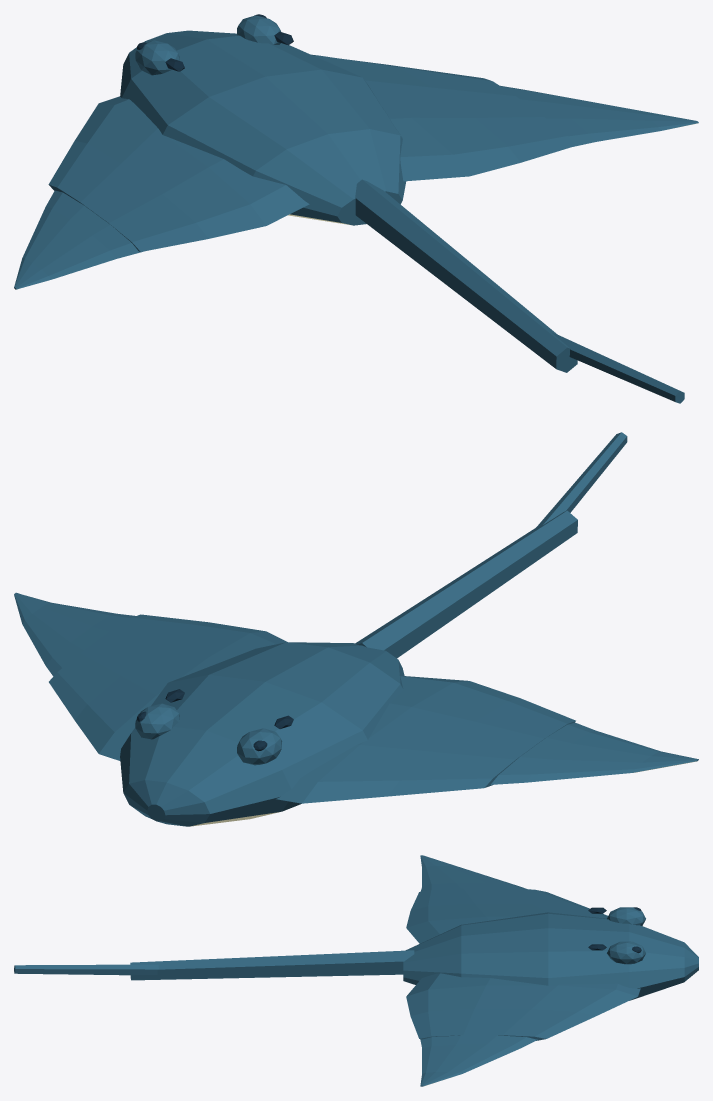
Rendered from wild_ray.glb.
The picture shows the model from 3 angles, top to bottom: view 1: azimuth 30°, elevation 25°; view 2: azimuth 150°, elevation 25°; view 3: azimuth 270°, elevation 25°; orthographic projection. The views are drawn at different scales.
Parts seen in each view (by area): view 1: ray central disc, supple inner disc, supple inner disc.001, long tail, swept outer disc, swept outer disc.001; view 2: ray central disc, supple inner disc, supple inner disc.001, long tail, swept outer disc, swept outer disc.001; view 3: ray central disc, supple inner disc.001, long tail, supple inner disc, swept outer disc.001, swept outer disc.
Part boxes in pixels (x1,y1,x2,y2): ray central disc: (120, 14, 406, 225); supple inner disc: (48, 96, 309, 251); supple inner disc.001: (311, 54, 575, 181); long tail: (355, 179, 684, 403); swept outer disc: (14, 190, 142, 289); swept outer disc.001: (500, 85, 698, 146); ray central disc: (120, 642, 404, 826); supple inner disc: (276, 676, 575, 803); supple inner disc.001: (49, 614, 287, 760); long tail: (355, 432, 627, 658); swept outer disc: (491, 722, 698, 784); swept outer disc.001: (14, 592, 135, 676); ray central disc: (403, 907, 698, 1000); supple inner disc.001: (406, 973, 640, 1040); long tail: (14, 950, 414, 980); supple inner disc: (406, 888, 607, 943); swept outer disc.001: (420, 1035, 537, 1086); swept outer disc: (420, 855, 527, 891).
Size of the model in its own units: 1.88 by 0.27 by 2.36.
